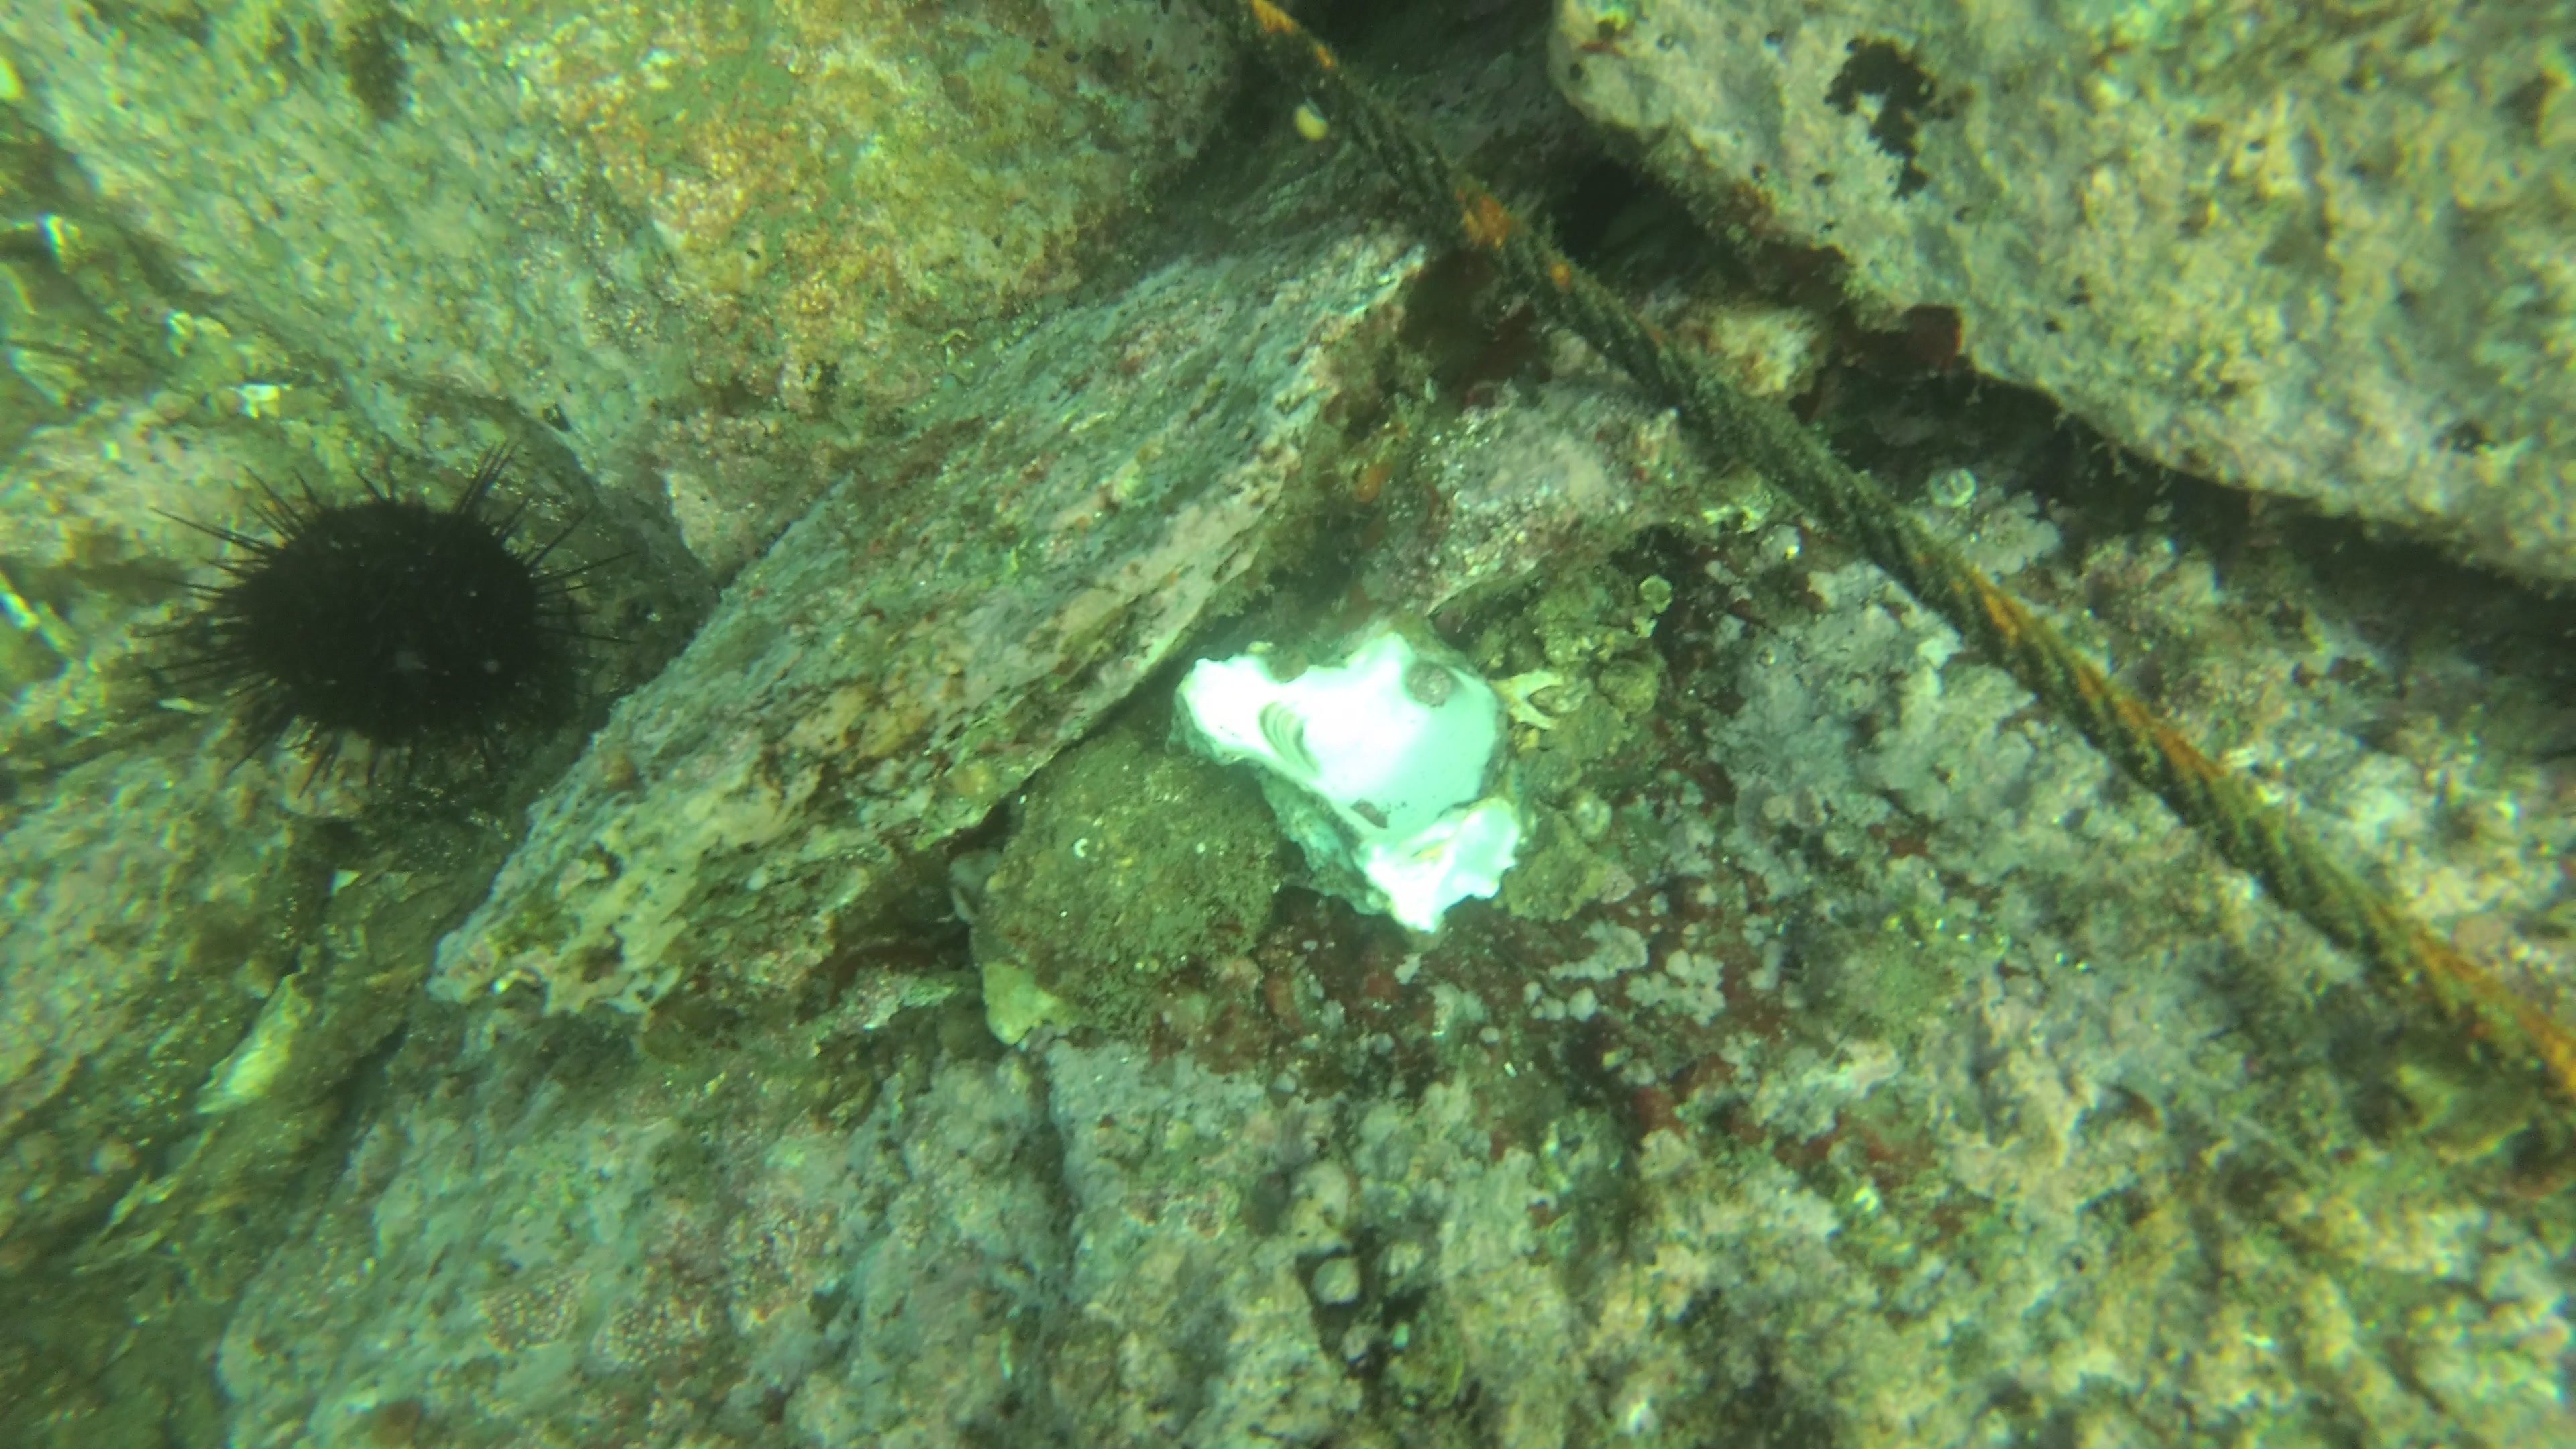echinus: (142, 448, 610, 786)
